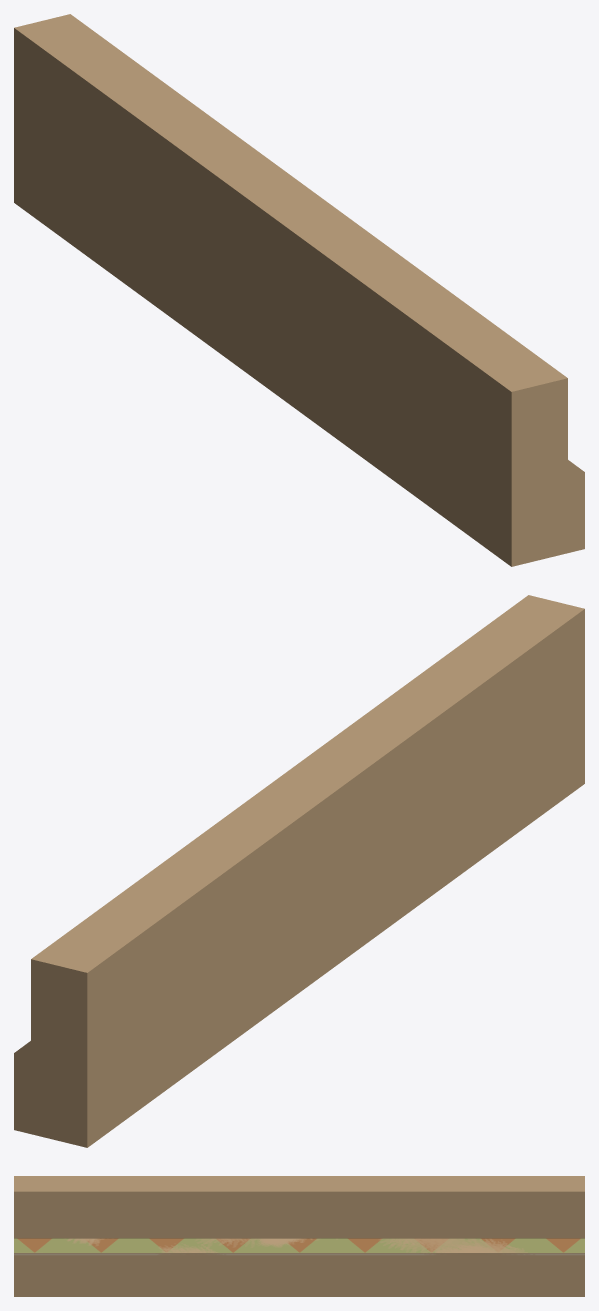
File: egypt_lowwall.fbx
The picture shows the model from 3 angles, top to bottom: view 1: azimuth 30°, elevation 25°; view 2: azimuth 150°, elevation 25°; view 3: azimuth 270°, elevation 25°; orthographic projection. The views are drawn at different scales.
Visible parts, largest first — view 1: egypt_lowwall; view 2: egypt_lowwall; view 3: egypt_lowwall.
Part boxes in pixels (left/top/right/bottom): egypt_lowwall: left=14, top=14, right=584, bottom=566; egypt_lowwall: left=14, top=595, right=584, bottom=1147; egypt_lowwall: left=14, top=1176, right=584, bottom=1296.
Size of the model in its own units: 1 by 2.28 by 11.73.
Materials: 1 (1 with a texture image).
